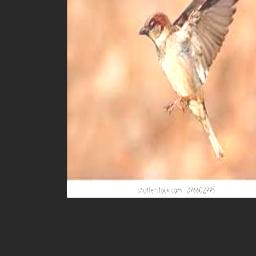Sparrow: (138, 0, 242, 158)
